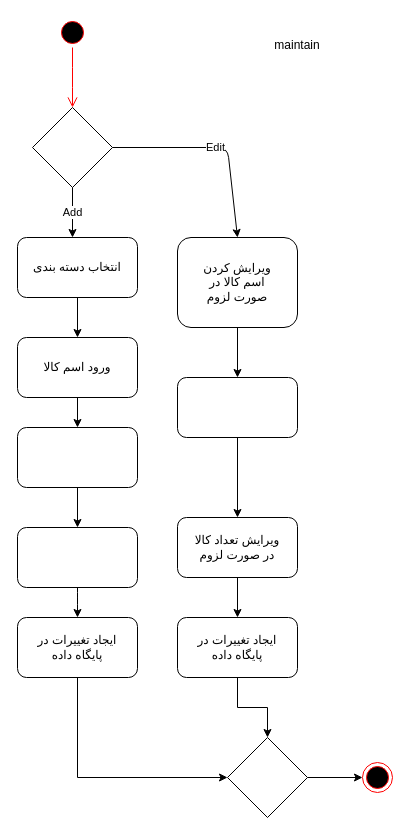
Some shapes in this 410 by 835 pixel diagram are drawn without their labels. The shapes that lost their labels are listed below. From the top down, each one's centre as x and y in pixels, then its label:
point 237,407: ویرایش مبلغ کالا در صورت لزوم
point 77,457: ورود تعداد کالا
point 77,557: ورود مبلغ کالا
